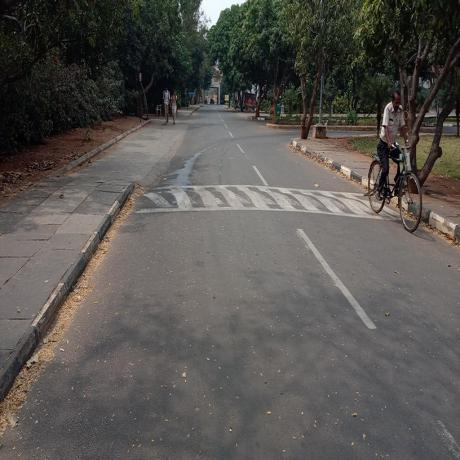Speed Bump: (132, 184, 397, 214)
